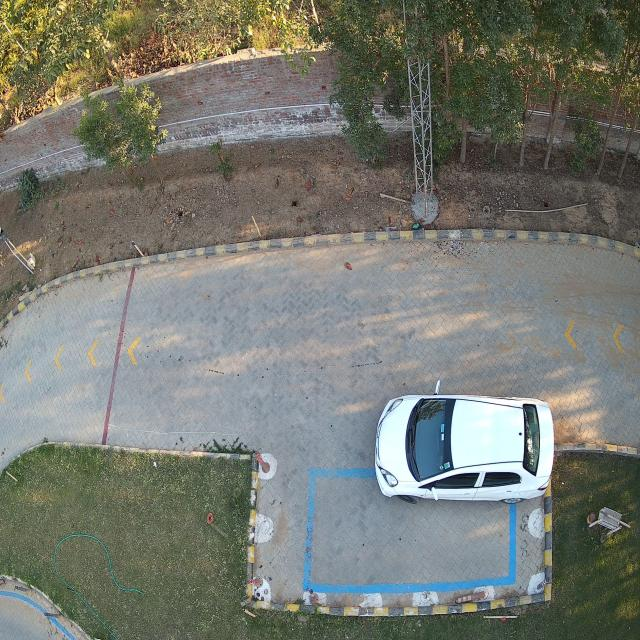car: (372, 394, 555, 505)
